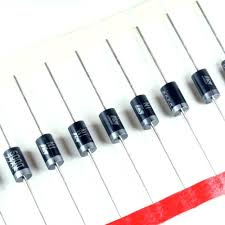diode: (28, 126, 70, 184), (1, 138, 37, 194), (188, 59, 224, 112), (126, 80, 161, 133), (64, 120, 104, 164), (94, 107, 136, 148), (157, 79, 196, 119)
